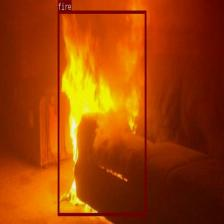fire: (57, 10, 146, 216)
